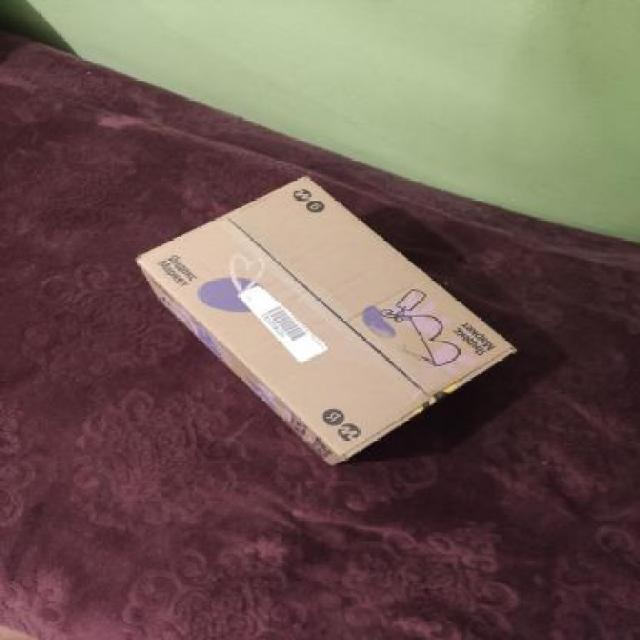box: (136, 166, 507, 472)
